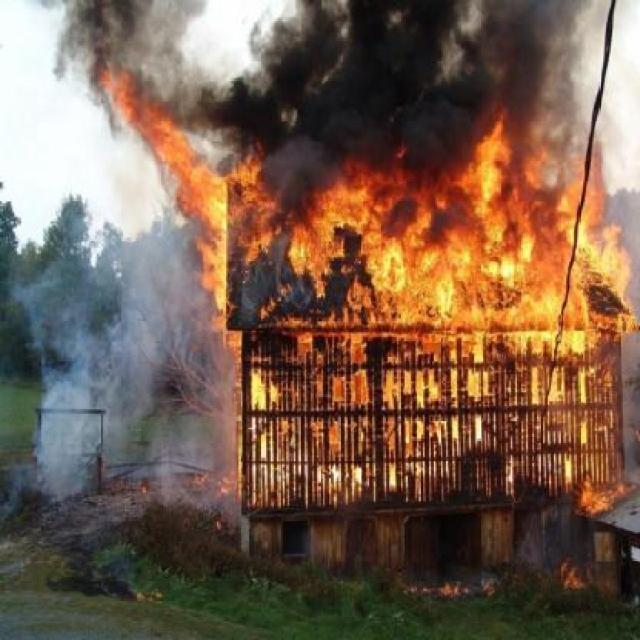Fire: (178, 125, 640, 502)
Smoke: (20, 214, 224, 458)
